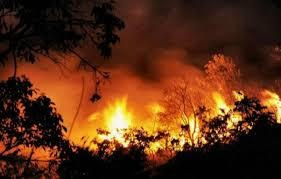fire: (96, 96, 137, 150)
